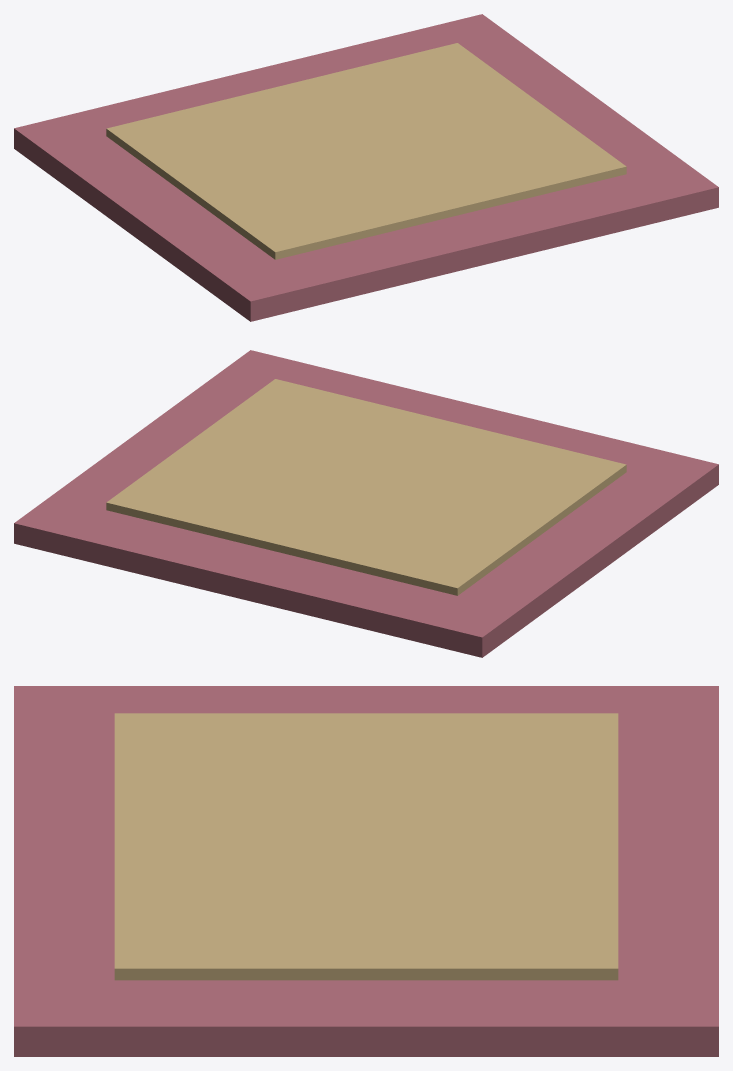
The model's file is rug.gltf.
3 renders of one model, top to bottom at view 1: azimuth 30°, elevation 25°; view 2: azimuth 150°, elevation 25°; view 3: azimuth 270°, elevation 25°, orthographic. The views are drawn at different scales.
Visible parts, largest first — view 1: rug; view 2: rug; view 3: rug.
Part boxes in pixels (x1,y1,x2,y2): rug: (14, 14, 718, 321); rug: (14, 350, 718, 657); rug: (14, 686, 718, 1056).
Bounding box in the file's own units: 0.96 × 0.06 × 0.84.
